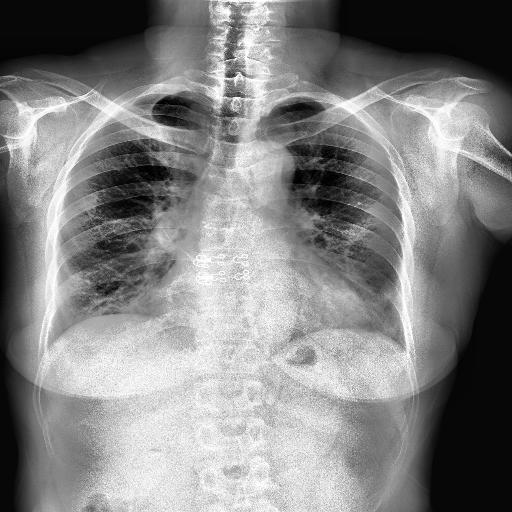0- Aortic enlargement: (240, 140, 294, 190), (248, 140, 296, 190)
3- Cardiomegaly: (148, 267, 366, 339), (148, 260, 370, 330), (150, 262, 366, 328)
